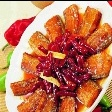hongshaodaiyu: (9, 3, 112, 112)
